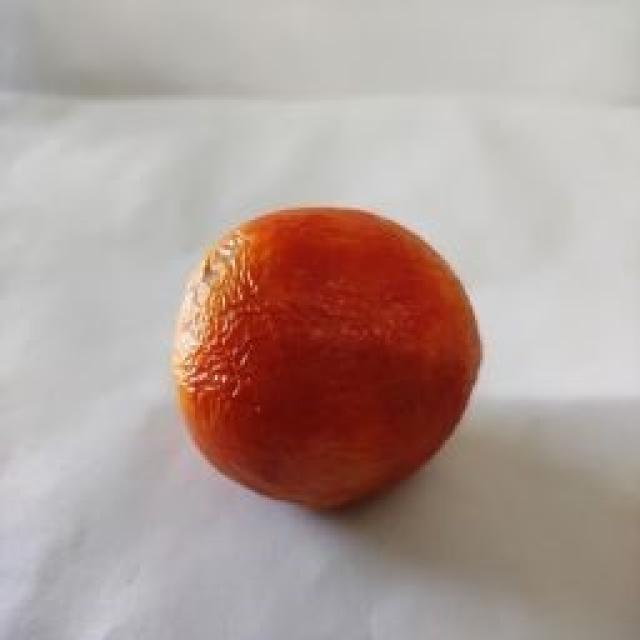overripe: (170, 205, 484, 512)
